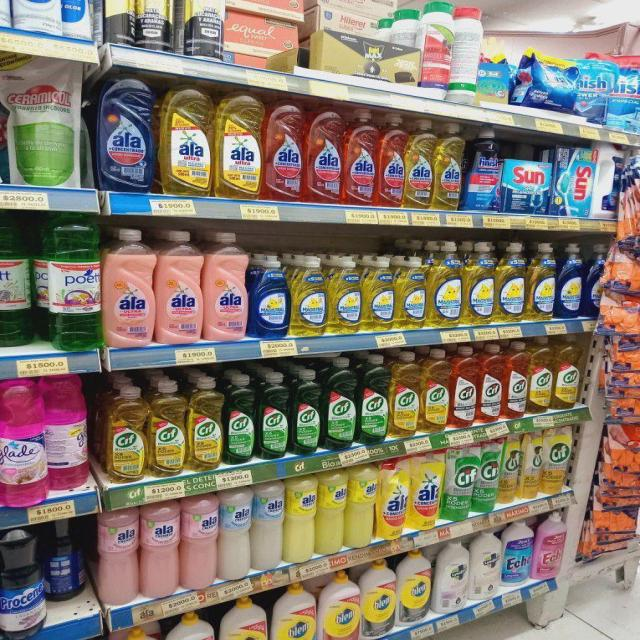ala_conc_amarillo: (158, 84, 213, 196), (215, 90, 262, 198), (434, 121, 463, 210), (405, 117, 433, 209)
ala_conc_azul: (96, 74, 156, 192)
ala_conc_rojo: (264, 98, 304, 202), (305, 102, 343, 204), (343, 107, 376, 206), (377, 113, 405, 208)
ala_crem_amarillo: (285, 475, 315, 563), (346, 464, 376, 548)
ala_crem_blanco: (218, 487, 250, 580), (252, 480, 284, 571)
ala_crem_rosado: (97, 506, 139, 606), (140, 502, 180, 599), (180, 495, 218, 589)
ala_sachet_amarillo: (377, 458, 407, 540), (409, 452, 440, 531)
ala_ultra_rosa: (103, 227, 155, 349), (156, 228, 203, 344), (204, 230, 249, 342)
cif_conc_bot_amarilla: (104, 385, 146, 481), (149, 380, 186, 476), (188, 376, 222, 471), (390, 351, 420, 437), (421, 347, 449, 432), (554, 334, 580, 410), (528, 335, 553, 414)
cif_conc_botella_roja: (451, 344, 477, 428), (478, 342, 502, 423), (504, 340, 527, 419)
cif_conc_botella_verde: (324, 357, 356, 450), (290, 368, 322, 456), (224, 374, 255, 464), (257, 372, 289, 459), (358, 353, 388, 444)
cif_conc_sachet_amarillo: (543, 425, 571, 496), (520, 429, 542, 500), (500, 433, 520, 505)
cif_conc_sachet_verde: (442, 443, 473, 522), (474, 438, 499, 514)
magistral_con_amarillo: (428, 240, 462, 328), (291, 254, 326, 336), (328, 255, 361, 334), (464, 240, 494, 325), (362, 255, 394, 332), (496, 241, 526, 323), (396, 253, 426, 329), (527, 242, 555, 321)
magistral_con_azul: (251, 253, 289, 338), (556, 242, 582, 319)
